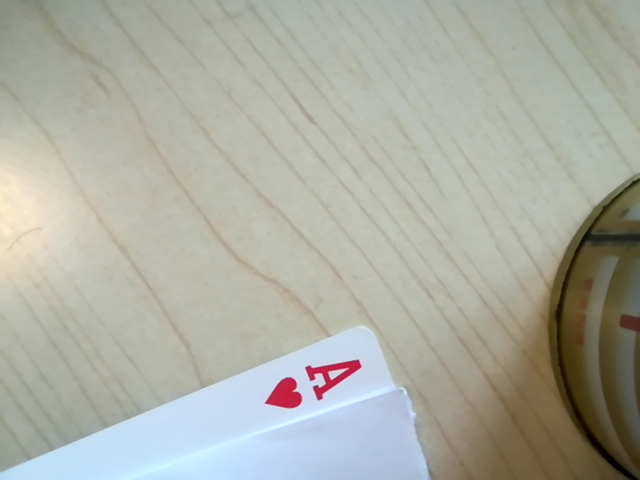hx a: (260, 352, 376, 418)
